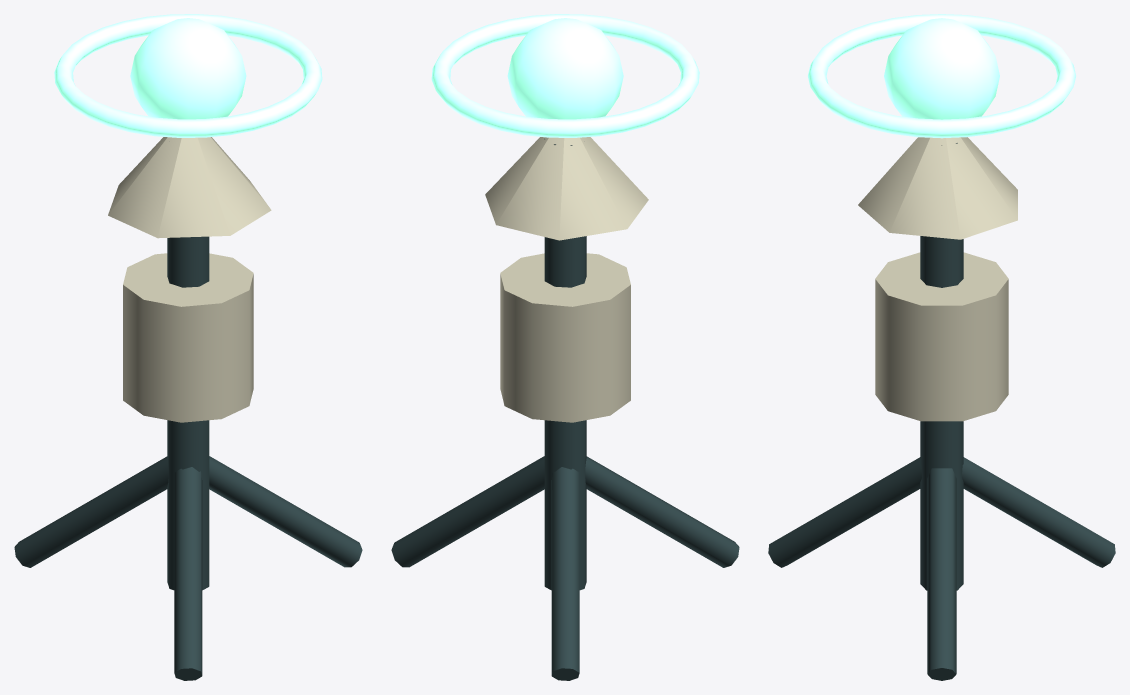
File: field-beacon.glb
3 views of the same model, side by side, from view 1: azimuth 30°, elevation 25°; view 2: azimuth 150°, elevation 25°; view 3: azimuth 270°, elevation 25° (orthographic).
Parts seen in each view (by area): view 1: Vesper / field-beacon; view 2: Vesper / field-beacon; view 3: Vesper / field-beacon.
Part boxes in pixels (x1,y1,x2,y2): Vesper / field-beacon: (14,14,362,680); Vesper / field-beacon: (391,14,739,680); Vesper / field-beacon: (768,14,1115,680).
Bounding box in the file's own units: 1.14 × 2.21 × 1.2.
